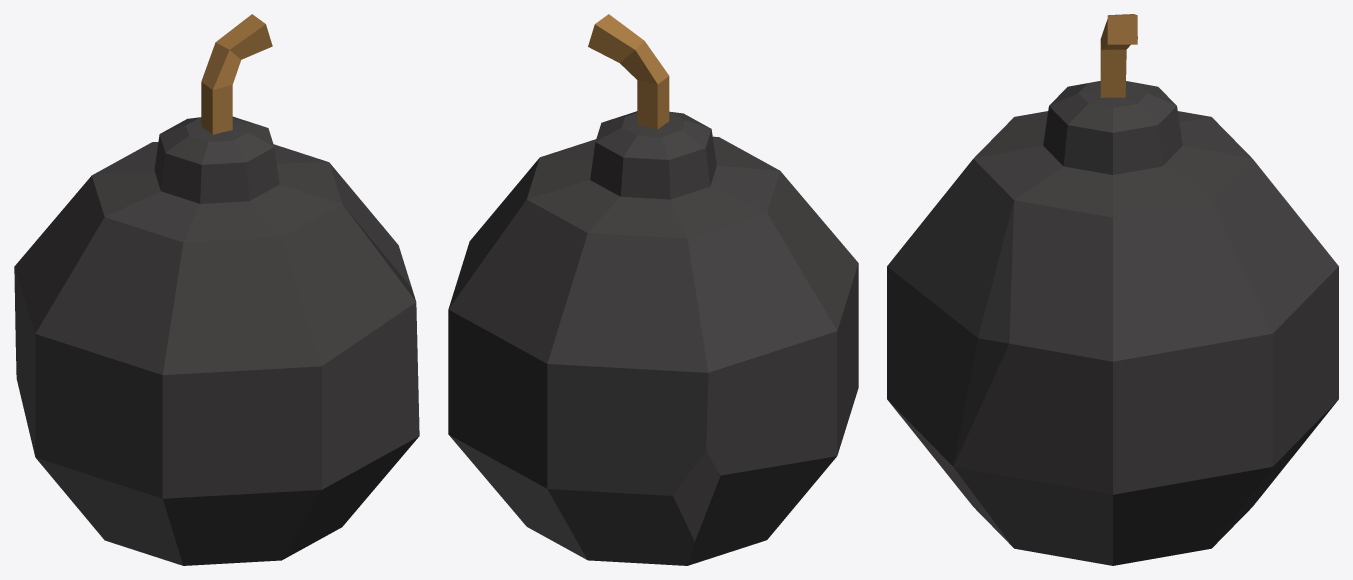
The model's file is SM_Bomb_Goblin.fbx.
3 renders of one model, left to right at view 1: azimuth 30°, elevation 25°; view 2: azimuth 150°, elevation 25°; view 3: azimuth 270°, elevation 25°, orthographic. The views are drawn at different scales.
Parts seen in each view (by area): view 1: SM_Bomb_Goblin; view 2: SM_Bomb_Goblin; view 3: SM_Bomb_Goblin.
Part boxes in pixels (bbox=[...]): SM_Bomb_Goblin: bbox=[14, 14, 419, 565]; SM_Bomb_Goblin: bbox=[448, 14, 858, 565]; SM_Bomb_Goblin: bbox=[887, 14, 1338, 565].
Bounding box in the file's own units: 0.168 × 0.2287 × 0.168.
